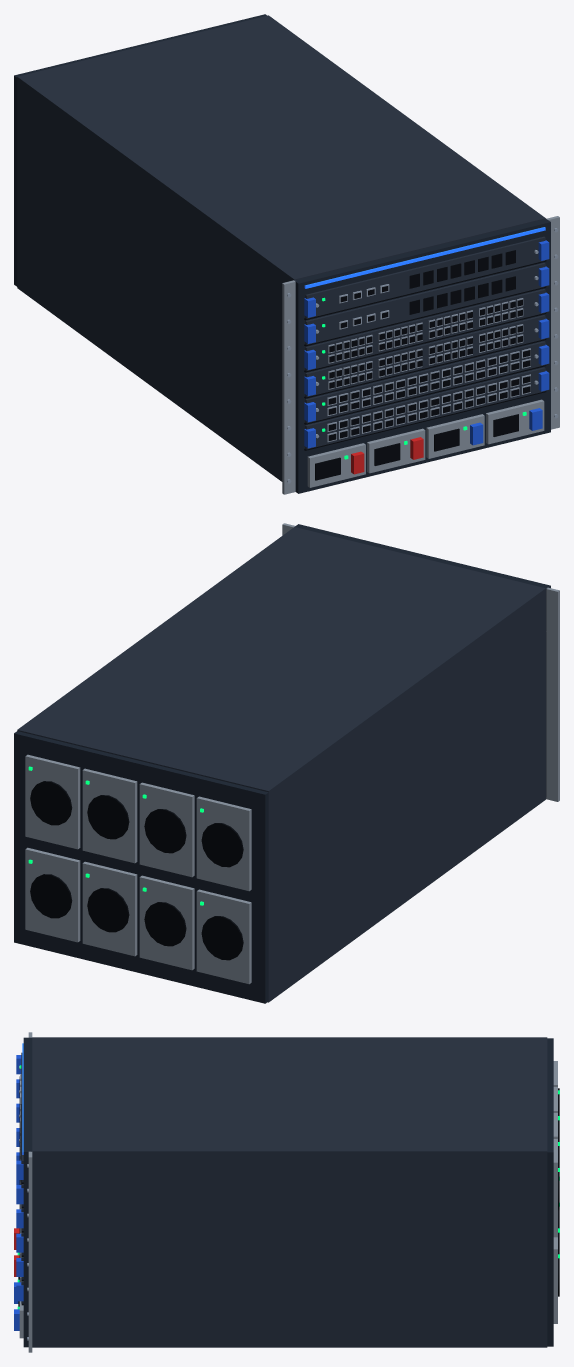
File: ruijie_dc_family.glb
3 renders of one model, top to bottom at view 1: azimuth 30°, elevation 25°; view 2: azimuth 150°, elevation 25°; view 3: azimuth 270°, elevation 25°, orthographic. The views are drawn at different scales.
Parts seen in each view (by area): view 1: BATCH_MAT_CHASSIS_BODY, BATCH_MAT_SLOT_CARD, BATCH_MAT_CAVITY_DARK, BATCH_MAT_FACEPLATE, BATCH_MAT_RACK_EAR, BATCH_MAT_PORT_SHIELD, BATCH_MAT_EJECTOR_LEVER, BATCH_MAT_BRAND_ACCENT, BATCH_MAT_SHELF_PSU_A, BATCH_MAT_SHELF_PSU_B; view 2: BATCH_MAT_CHASSIS_BODY, BATCH_MAT_RACK_EAR, BATCH_MAT_FACEPLATE, BATCH_MAT_CAVITY_DARK; view 3: BATCH_MAT_CHASSIS_BODY, BATCH_MAT_FACEPLATE, BATCH_MAT_RACK_EAR, BATCH_MAT_EJECTOR_LEVER, BATCH_MAT_CAVITY_DARK.
Part boxes in pixels (left/top/right/bottom): BATCH_MAT_CHASSIS_BODY: left=17, top=15, right=545, bottom=481; BATCH_MAT_SLOT_CARD: left=305, top=236, right=545, bottom=449; BATCH_MAT_CAVITY_DARK: left=304, top=250, right=546, bottom=480; BATCH_MAT_FACEPLATE: left=14, top=14, right=550, bottom=493; BATCH_MAT_RACK_EAR: left=282, top=216, right=559, bottom=494; BATCH_MAT_PORT_SHIELD: left=287, top=228, right=558, bottom=483; BATCH_MAT_EJECTOR_LEVER: left=304, top=240, right=549, bottom=448; BATCH_MAT_BRAND_ACCENT: left=304, top=227, right=545, bottom=288; BATCH_MAT_SHELF_PSU_A: left=351, top=437, right=423, bottom=474; BATCH_MAT_SHELF_PSU_B: left=470, top=408, right=542, bottom=445; BATCH_MAT_CHASSIS_BODY: left=17, top=527, right=545, bottom=1002; BATCH_MAT_RACK_EAR: left=25, top=523, right=559, bottom=984; BATCH_MAT_FACEPLATE: left=14, top=524, right=550, bottom=1003; BATCH_MAT_CAVITY_DARK: left=30, top=781, right=243, bottom=960; BATCH_MAT_CHASSIS_BODY: left=32, top=1037, right=547, bottom=1347; BATCH_MAT_FACEPLATE: left=23, top=1037, right=553, bottom=1347; BATCH_MAT_RACK_EAR: left=19, top=1032, right=557, bottom=1352; BATCH_MAT_EJECTOR_LEVER: left=16, top=1055, right=23, bottom=1301; BATCH_MAT_CAVITY_DARK: left=18, top=1076, right=559, bottom=1306.
Size of the model in its own units: 0.4826 by 0.3536 by 0.8905.
